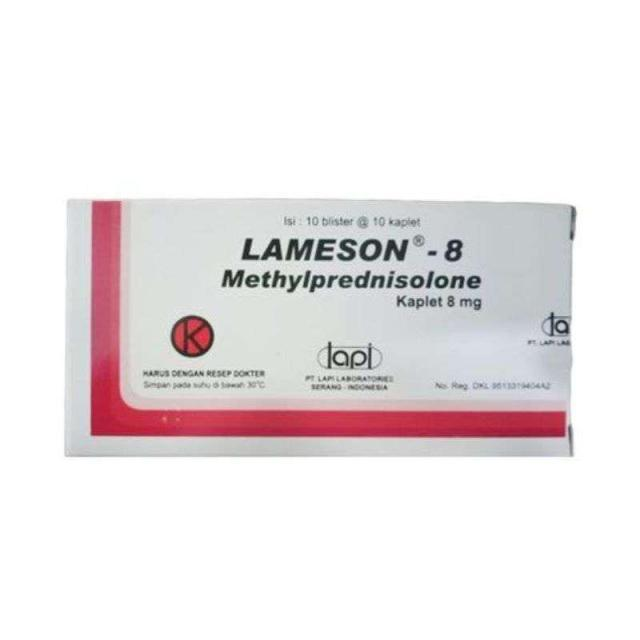drug-name: (239, 232, 469, 263)
